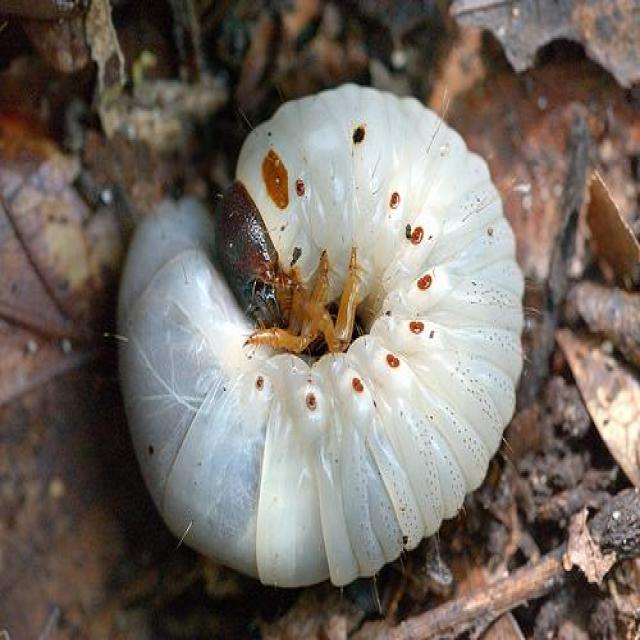Grub-Adult-: (98, 71, 533, 597)
